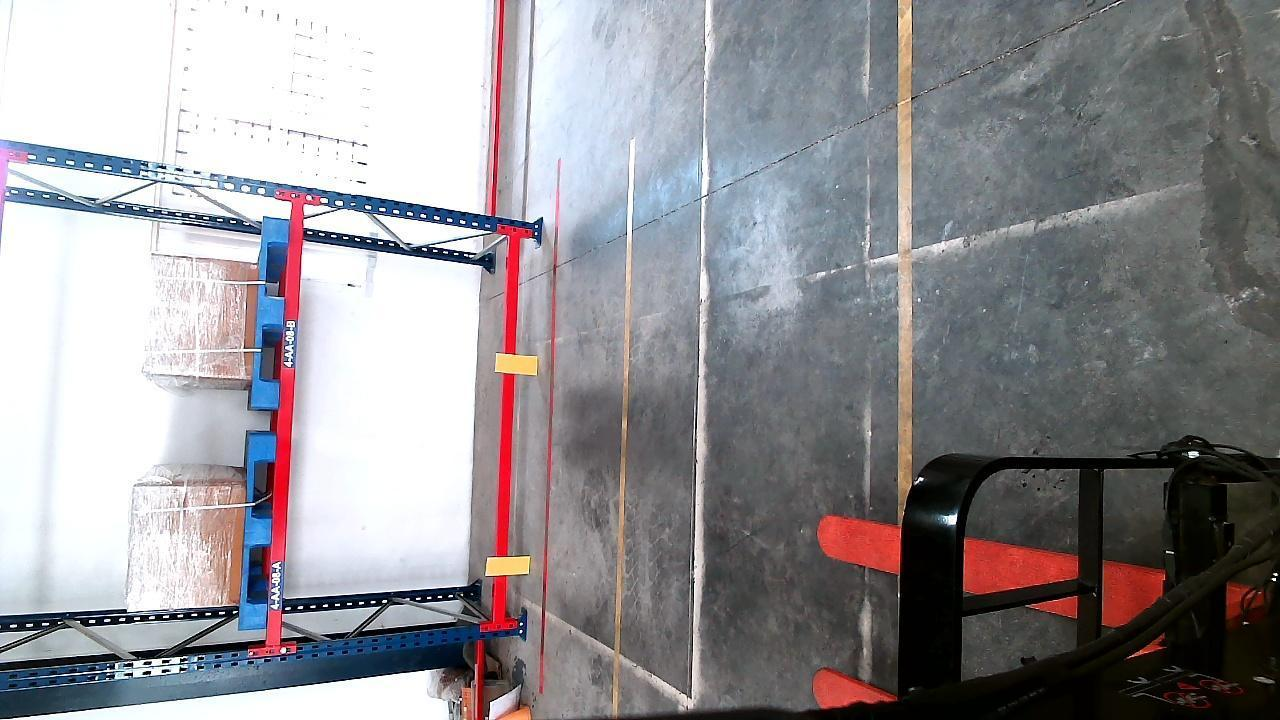h_rack: (269, 197, 306, 644), (492, 233, 519, 617)
orange_strip: (498, 351, 542, 375), (489, 555, 532, 577)
red_line: (536, 156, 564, 688)
small_pallet: (254, 221, 289, 417), (242, 439, 277, 624)
yellow_line: (606, 136, 639, 720), (893, 3, 915, 493)
